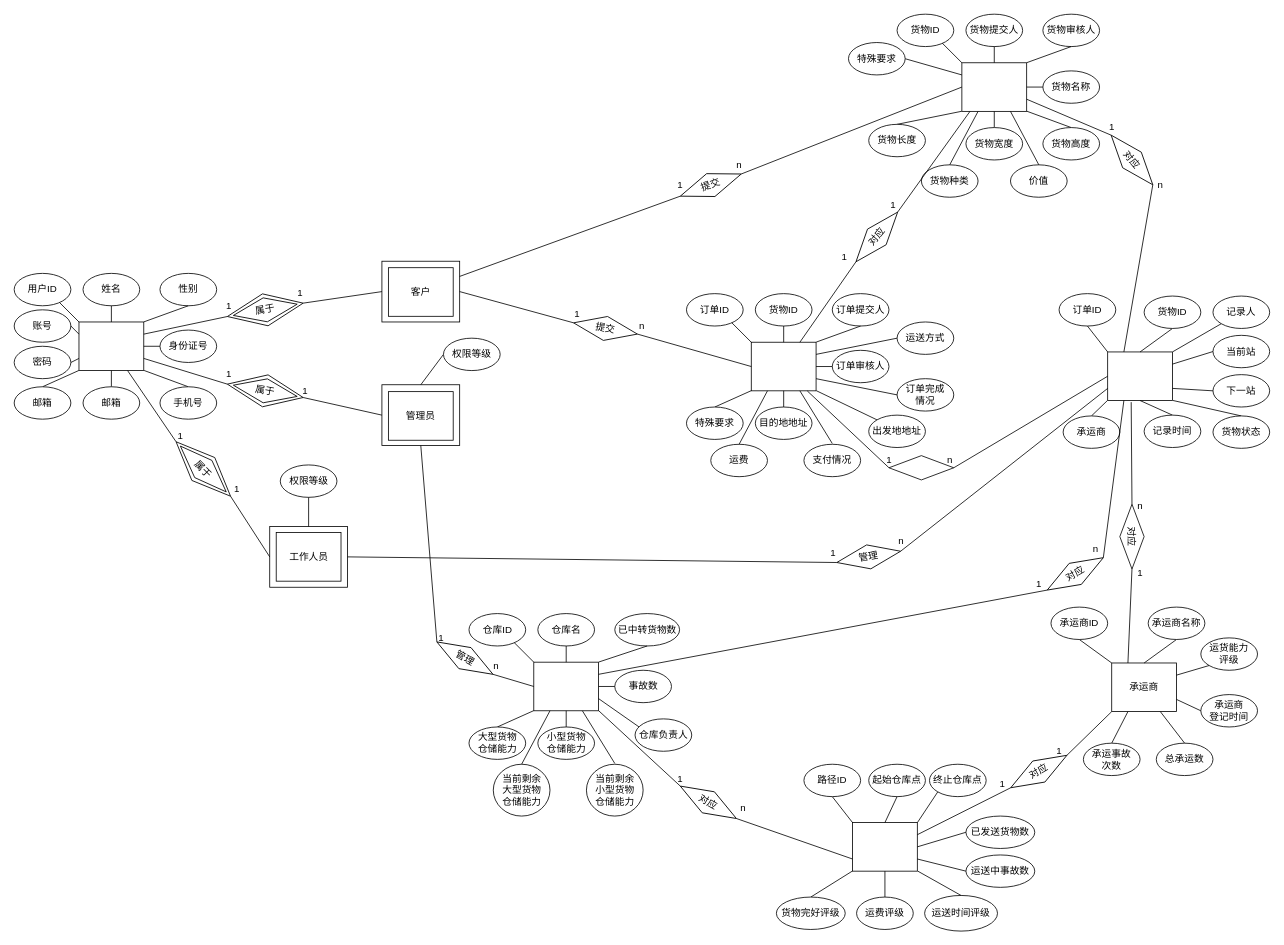
The diagram is 1284 pixels wide and 945 high, and some of its shapes have lost their labels. The shapes that lost their labels are listed below. From the top down, each one's box as (x1, y1, x2, y2) in pixels, then its label:
(961, 62, 1027, 111): 货物
(78, 321, 144, 371): 用户
(750, 341, 816, 391): 订单
(1107, 351, 1172, 401): 物流记录
(888, 455, 954, 480): 包含
(533, 661, 599, 711): 仓库
(852, 822, 917, 871): 路径
